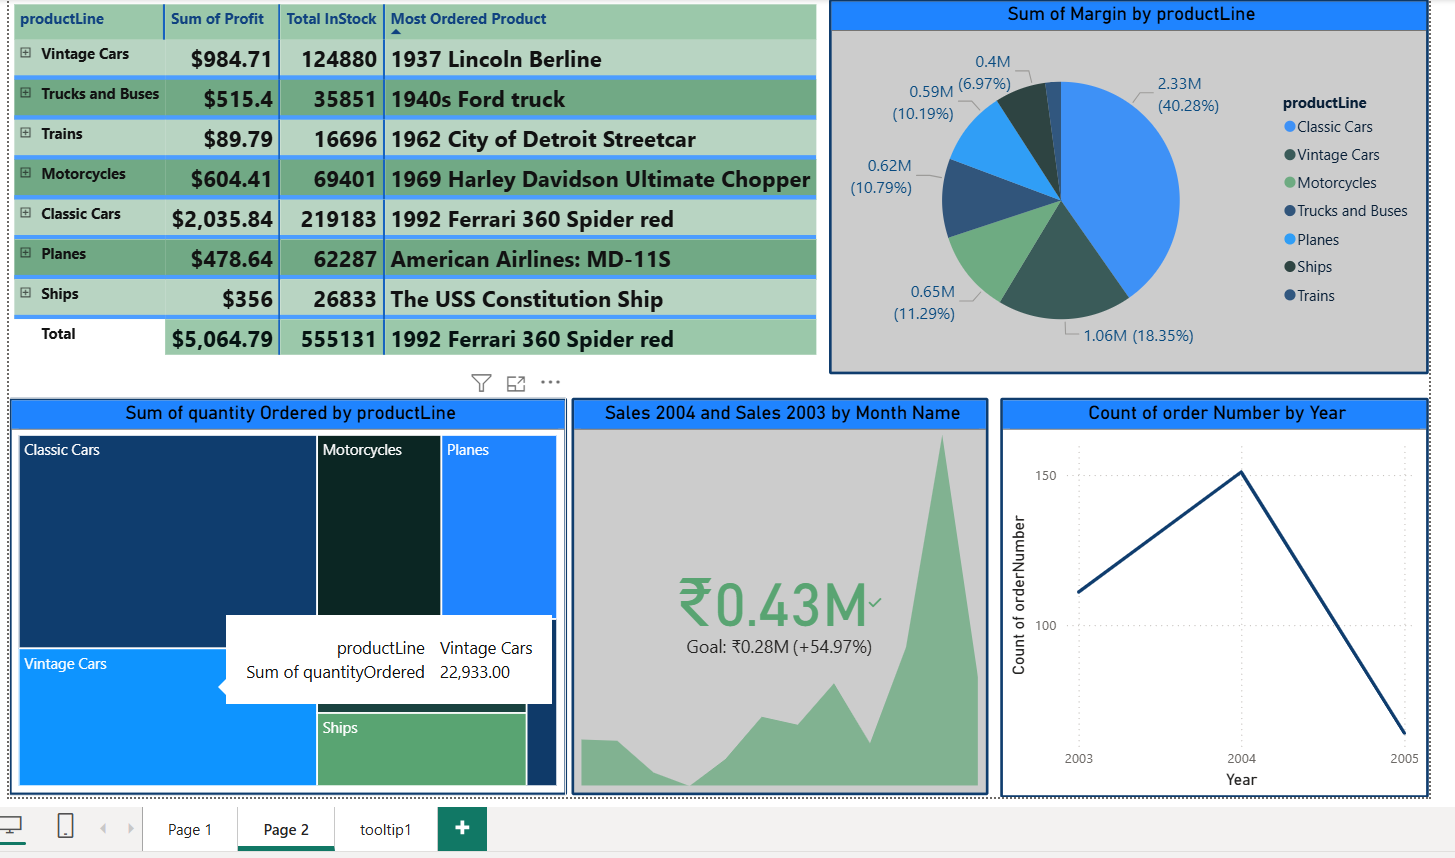

This screenshot's page, from the dashboard's own definition file:
{"tool":"powerbi","page":{"name":"Page 2","canvas":[1280,720],"ordinal":1},"visuals":[{"type":"pivotTable","fields":{"Rows":["products.productLine","products.productName"],"Values":["Sum(products.Profit)","Sum(products.quantityInStock)","ProductsByQuantity.Most Ordered Product"]},"box":[0,0,738.9,360.1],"z":0},{"type":"lineChart","title":"Count of order Number by Year","fields":{"Y":["CountNonNull(orders.orderNumber)"],"Category":["orders.orderDate.Variation.Date Hierarchy.Year"]},"box":[893.8,359.6,386.6,360.7],"z":1000},{"type":"pieChart","fields":{"Y":["Sum(order details.Margin)"],"Category":["products.productLine"]},"box":[738.9,0,540.8,338.4],"z":5000},{"type":"treemap","title":"Sum of quantity Ordered by productLine","fields":{"Group":["productlines.productLine"],"Values":["Sum(order details.quantityOrdered)"]},"box":[0,360.1,503.2,358.6],"z":6000},{"type":"kpi","fields":{"TrendLine":["orders.Month Name"],"Indicator":["order details.Sales 2004"],"Goal":["order details.Sales 2003"]},"box":[507.6,360.1,376,358.6],"z":7000}]}

Visuals, with their boxes on the page's 1280x720 design canvas (x1, y1, x2, y2). These are canvas units, not pixel positions in the 1455x858 screenshot, which may show the page scaled, cropped or inside an application window:
pivotTable - products.productLine x products.productName: bbox=(0, 0, 739, 360)
"Count of order Number by Year" lineChart: bbox=(894, 360, 1280, 720)
pieChart - Sum(order details.Margin) x products.productLine: bbox=(739, 0, 1280, 338)
"Sum of quantity Ordered by productLine" treemap: bbox=(0, 360, 503, 719)
kpi - orders.Month Name x order details.Sales 2004: bbox=(508, 360, 884, 719)
